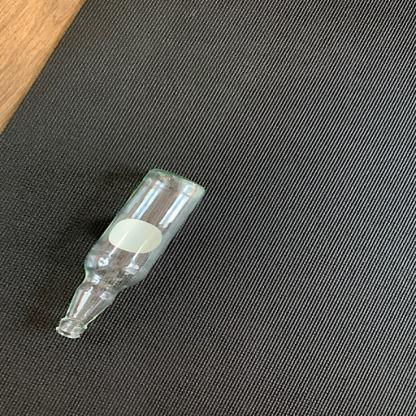trash: (50, 164, 210, 340)
